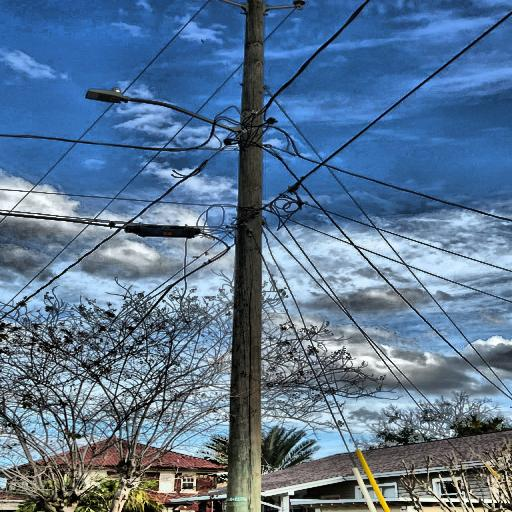pole: (208, 0, 279, 512)
street light: (77, 81, 253, 144)
